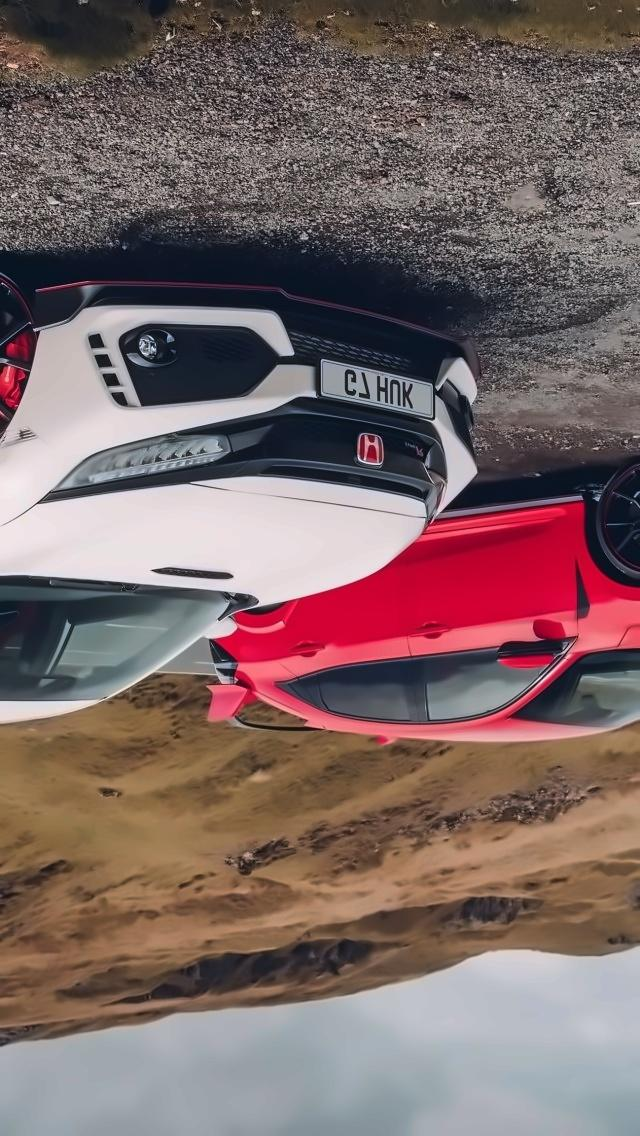Car hood: (0, 480, 446, 598)
Front bumper: (34, 254, 506, 434)
Headlight - -L-: (30, 400, 267, 504)
Passenger-s door - -F-L-: (418, 477, 580, 725)
Passenger-s door - -R-L-: (267, 576, 437, 737)
Side bumper - -L-: (430, 457, 637, 531)
Side mirror - -L-: (480, 587, 579, 685)
